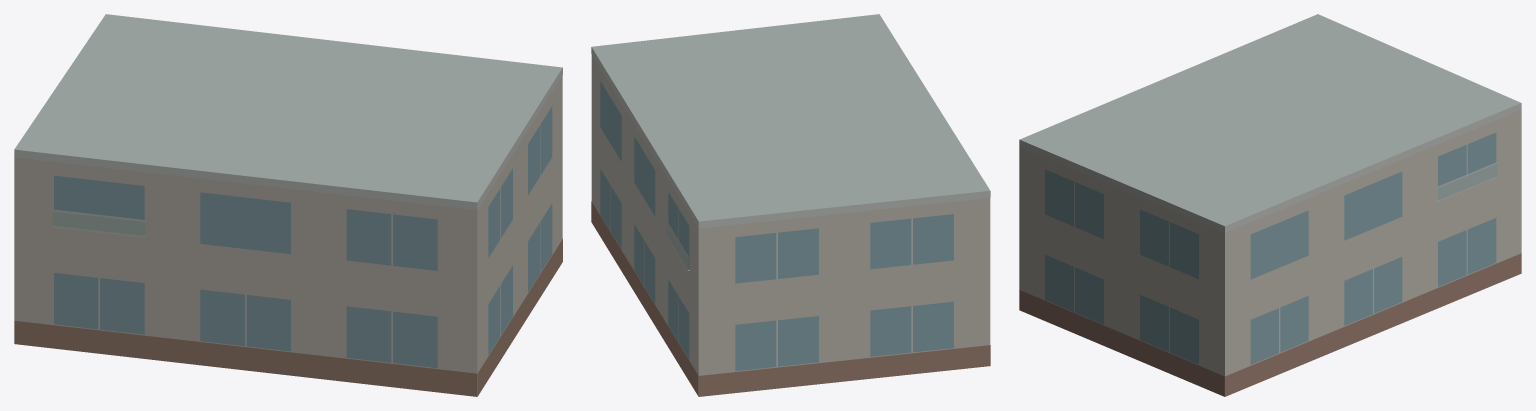
Rendered from survey-upis-32662746.glb.
3 views of the same model, side by side, from view 1: azimuth 30°, elevation 25°; view 2: azimuth 150°, elevation 25°; view 3: azimuth 270°, elevation 25° (orthographic). The views are drawn at different scales.
Parts seen in each view (by area): view 1: survey-upis-32662746.tmp; view 2: survey-upis-32662746.tmp; view 3: survey-upis-32662746.tmp.
Part boxes in pixels (x1,y1,x2,y2): survey-upis-32662746.tmp: (14,14,562,396); survey-upis-32662746.tmp: (591,14,990,396); survey-upis-32662746.tmp: (1019,14,1521,396).
Bounding box in the file's own units: 16.28 × 6.1 × 16.27.
